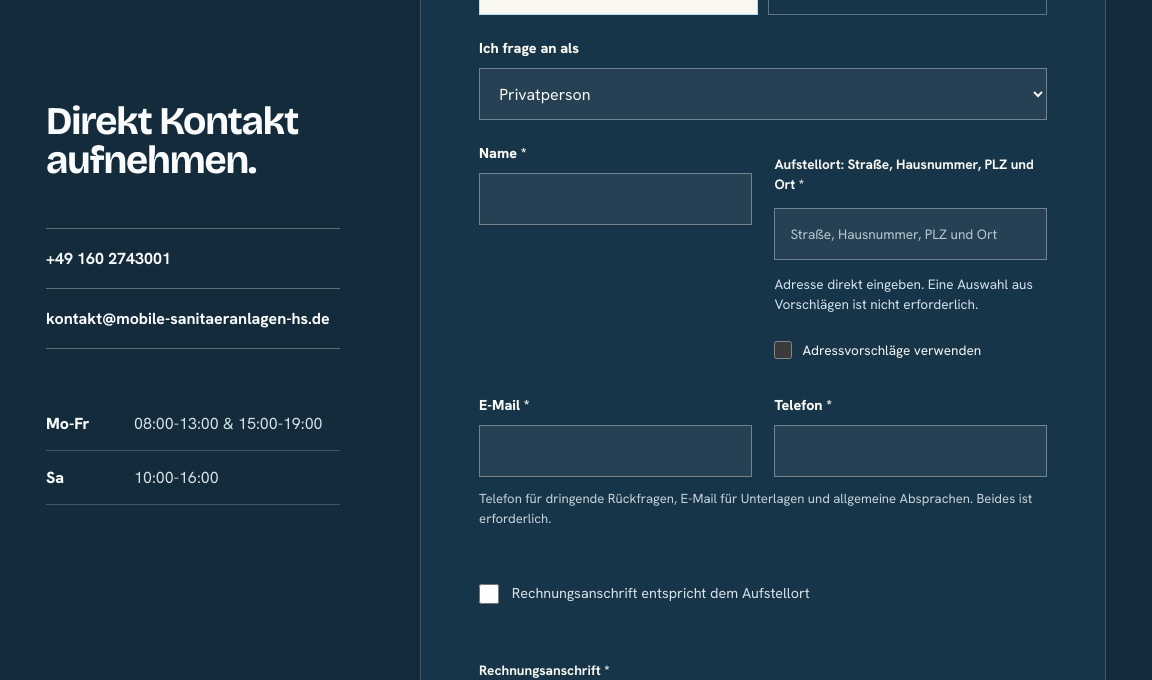
retains typed text when the service fails
(page scrolled)
Click the checkbox labelled "Adressvorschläge verwenden" at {"x": 783, "y": 350}, box 774,341 -> 792,359
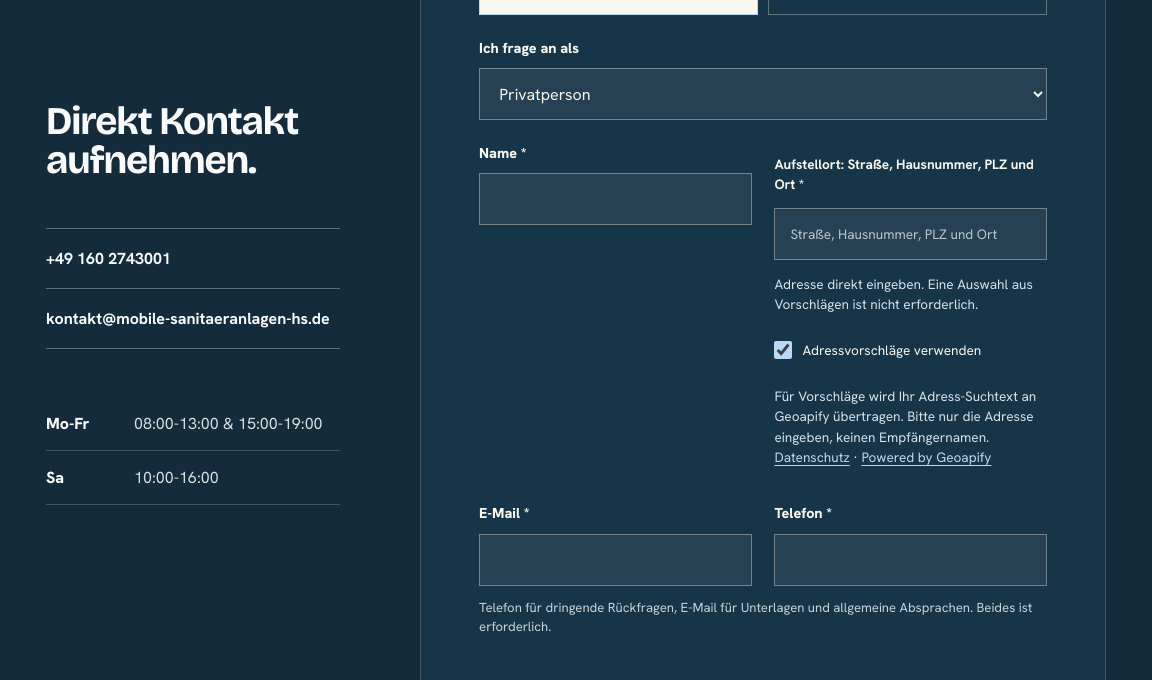
Type "Meine Adresse" into the dropdown labelled "Aufstellort: Straße, Hausnummer, PLZ und Ort *" at {"x": 911, "y": 234}, box 774,208 -> 1047,260
Wait 650 ms
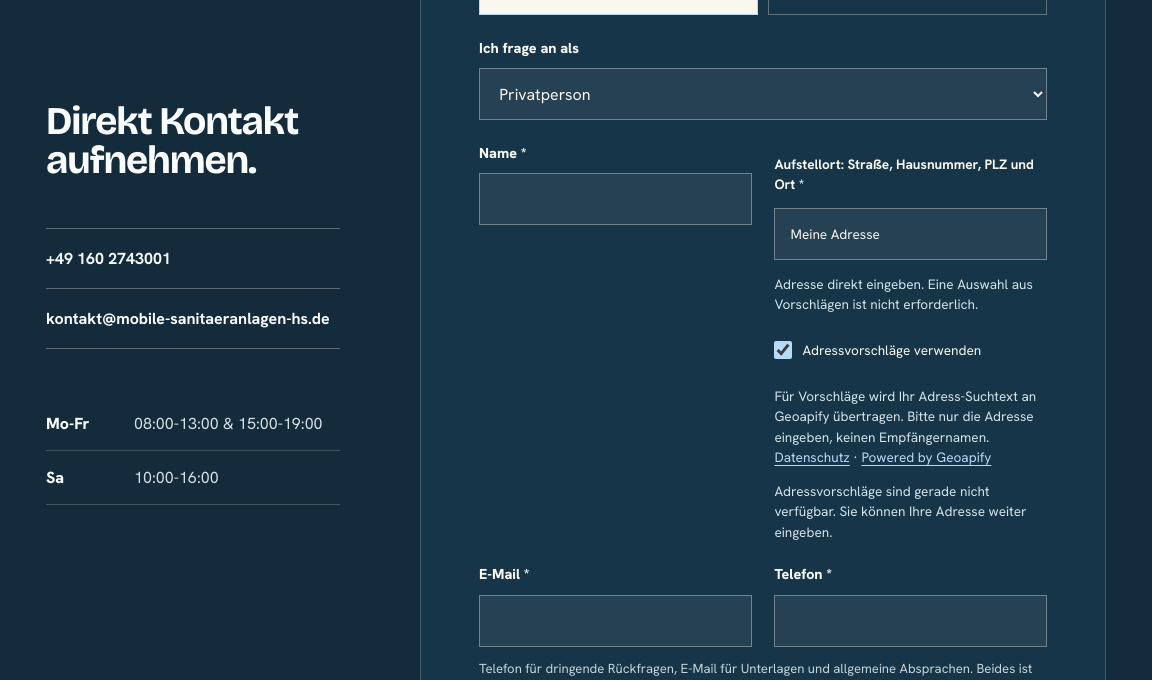
Expected: the message shows "weiter eingeben", 774,482 -> 1027,541
